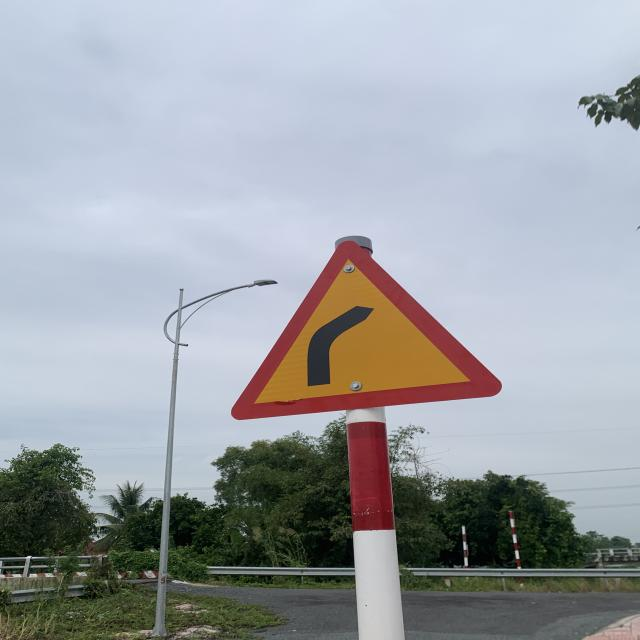Duong_Nguoi_Di_Bo_Cat_Ngang: (228, 238, 506, 424)
